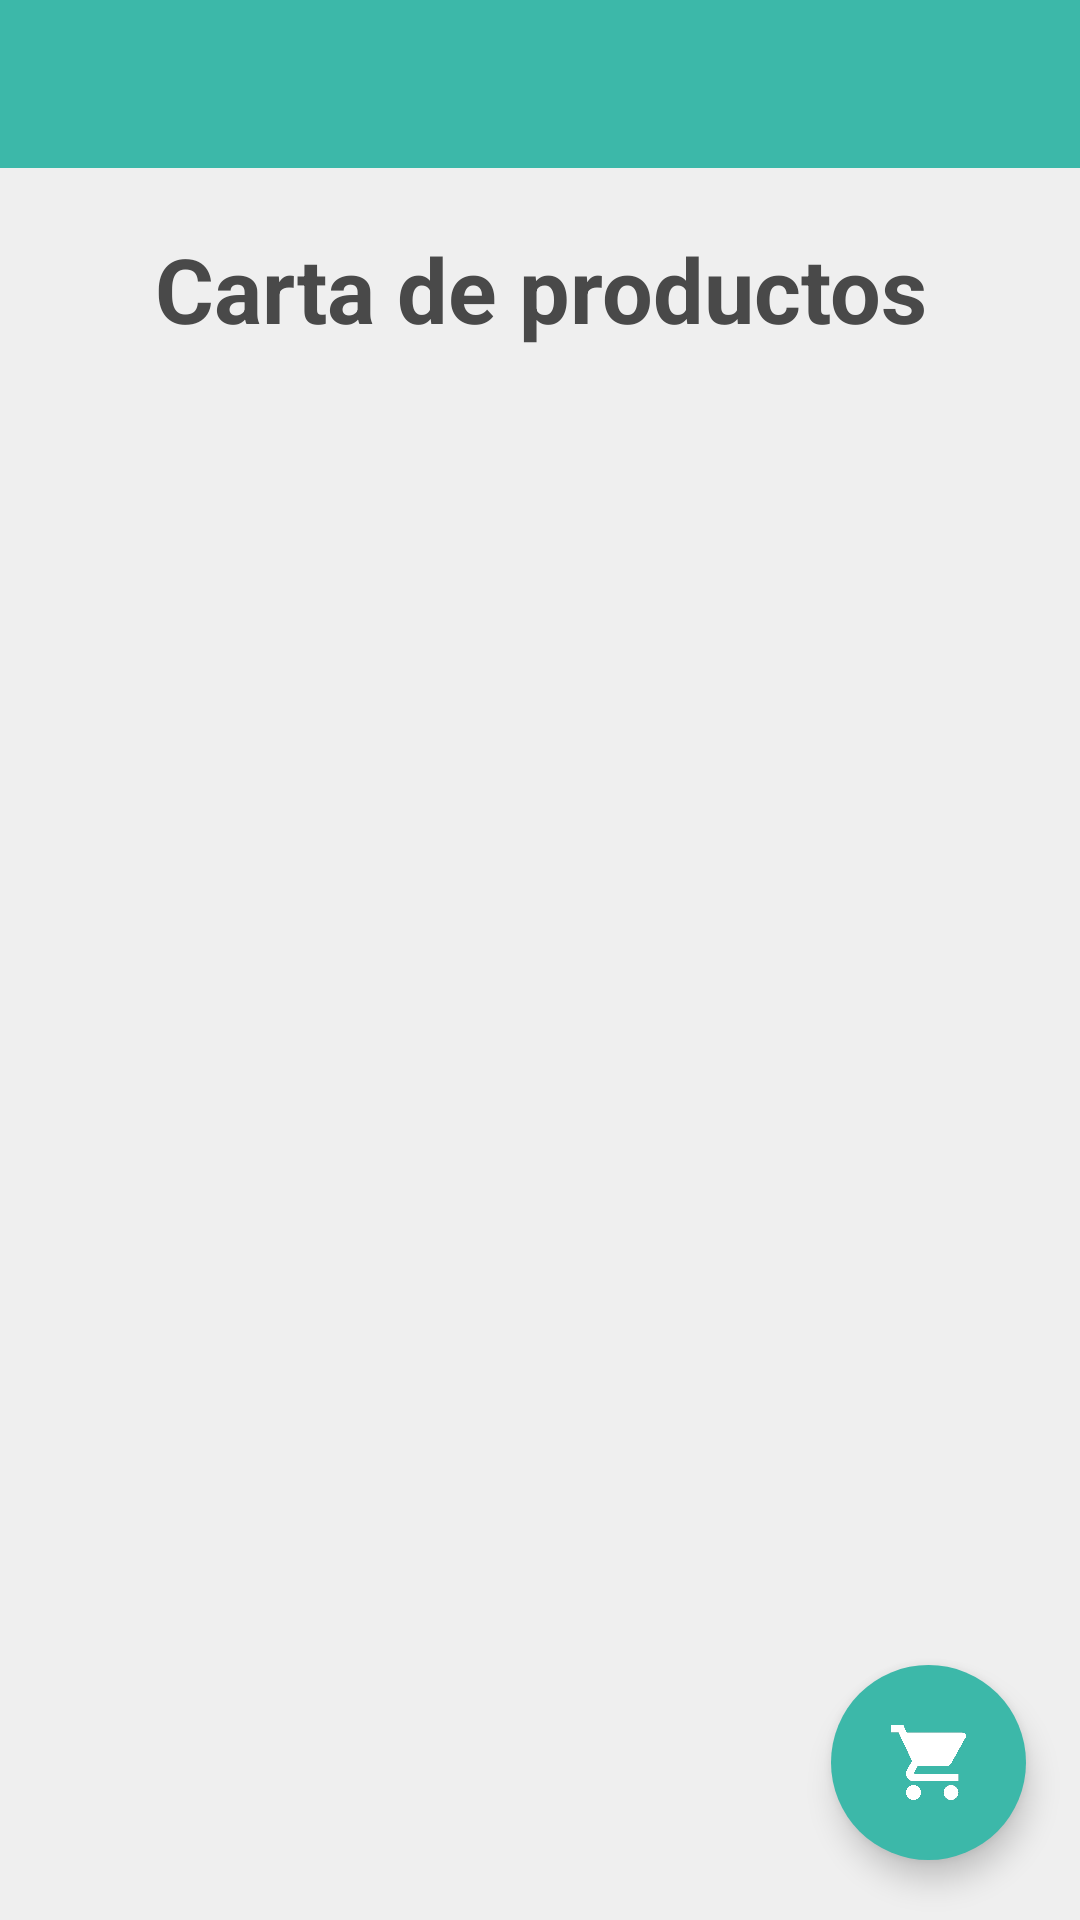

Where to tap for icons on this 1080px×1920px app screen, as [x,y]:
carrito: [928,1762]
